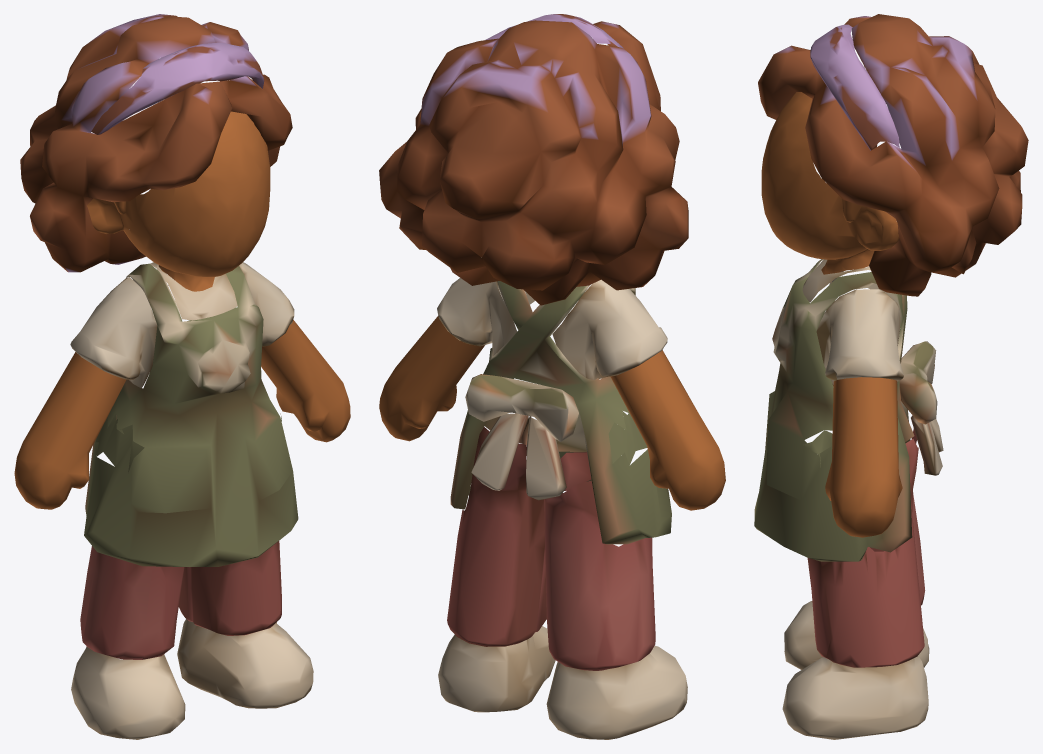
3 renders of one model, left to right at view 1: azimuth 30°, elevation 25°; view 2: azimuth 150°, elevation 25°; view 3: azimuth 270°, elevation 25°, orthographic. The views are drawn at different scales.
Parts seen in each view (by area): view 1: top, hair, head, bottom, hand_r, shoe_l, shoe_r, sleeve_r, hand_l, acc_head_0, sleeve_l; view 2: hair, bottom, top, hand_r, shoe_r, sleeve_r, shoe_l, hand_l, sleeve_l, acc_head_0; view 3: hair, top, bottom, head, hand_l, shoe_l, sleeve_l, acc_head_0, shoe_r.
Boxes of the visible parts, x1,y1,x2,y2 form: top: (84,262,298,566); hair: (20,14,292,272); head: (87,111,270,291); bottom: (80,541,281,659); hand_r: (14,352,125,509); shoe_l: (177,619,313,708); shoe_r: (71,646,185,739); sleeve_r: (70,277,157,472); hand_l: (261,320,350,442); acc_head_0: (91,42,264,134); sleeve_l: (239,262,294,421); hair: (379,20,688,305); bottom: (447,427,655,670); top: (450,281,671,544); hand_r: (610,350,725,510); shoe_r: (546,645,687,739); sleeve_r: (552,279,667,464); shoe_l: (438,626,555,712); hand_l: (379,316,484,441); sleeve_l: (437,278,516,356); acc_head_0: (485,14,623,48); hair: (758,14,1028,296); top: (754,259,943,561); bottom: (807,439,925,667); head: (761,92,899,274); hand_l: (825,377,902,537); shoe_l: (782,656,928,739); sleeve_l: (802,289,903,467); acc_head_0: (810,24,899,150); shoe_r: (784,601,929,669).
Size of the model in its own units: 0.5268 by 1.03 by 0.3837.
